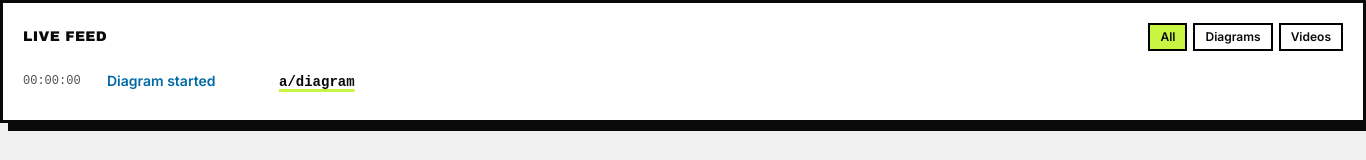
Test case: the live feed's filter › says when a filter has nothing yet
Click the button "Videos" at (1311, 37), box 1279,23 -> 1343,51
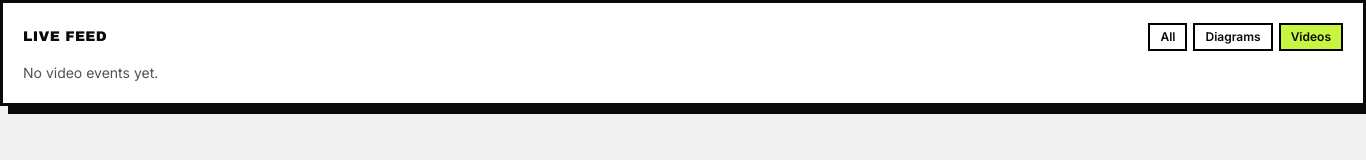
Check: the text "No video events yet." is shown, box 23,64 -> 158,81
